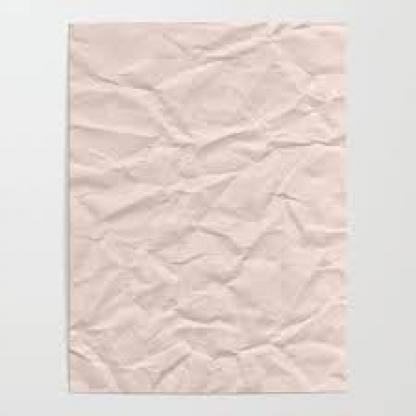paper: (65, 15, 342, 392)
